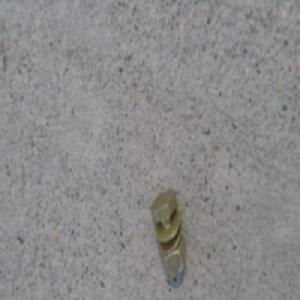BoltNutSet: (150, 186, 186, 276)
